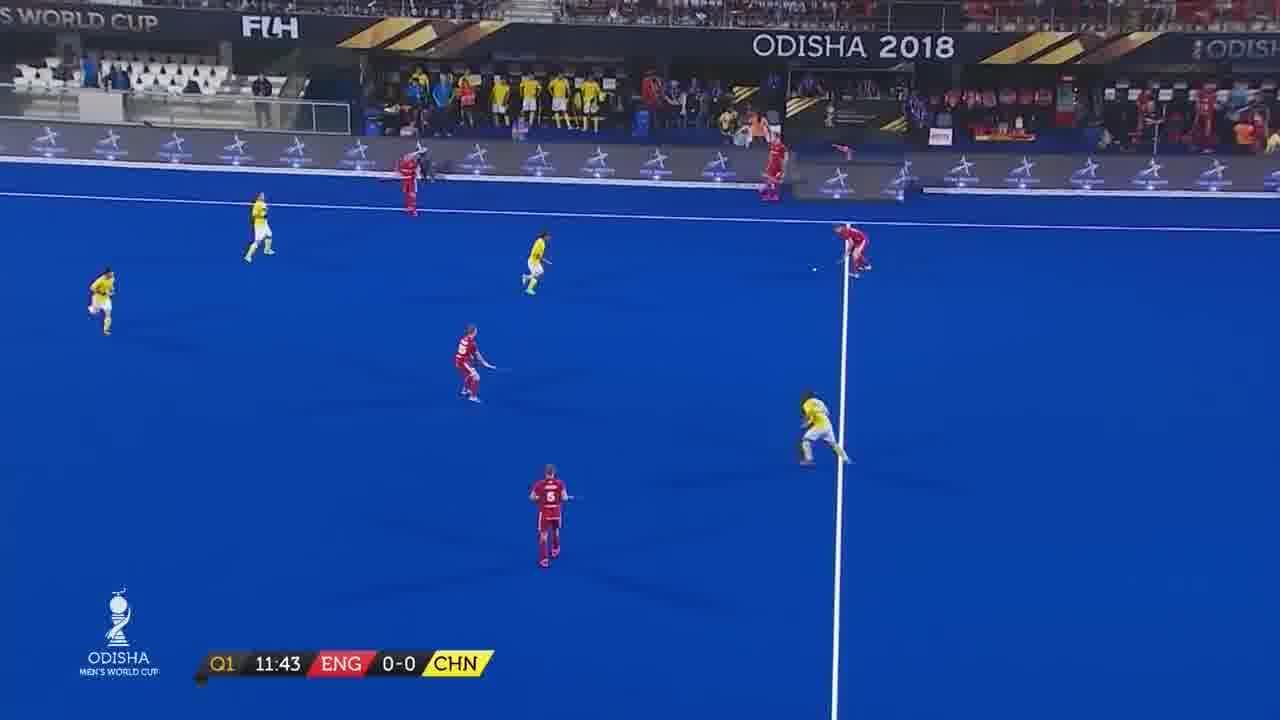ball: (806, 263, 821, 280)
